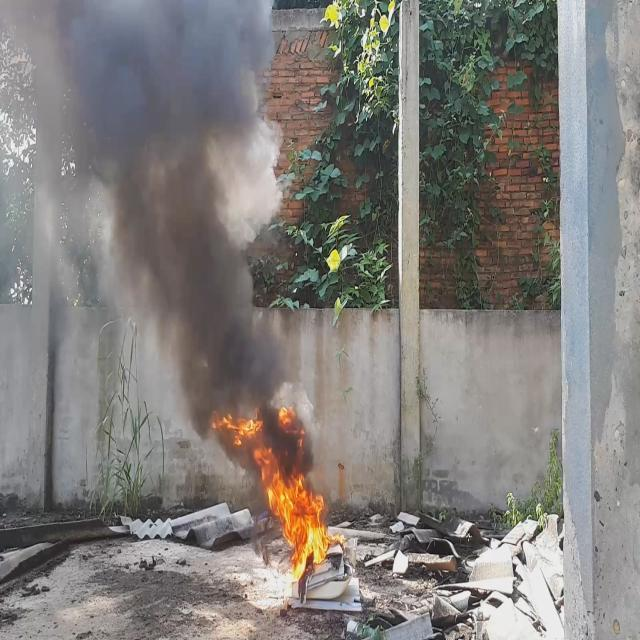Fire: (214, 407, 334, 578)
Smoke: (0, 0, 315, 481)
